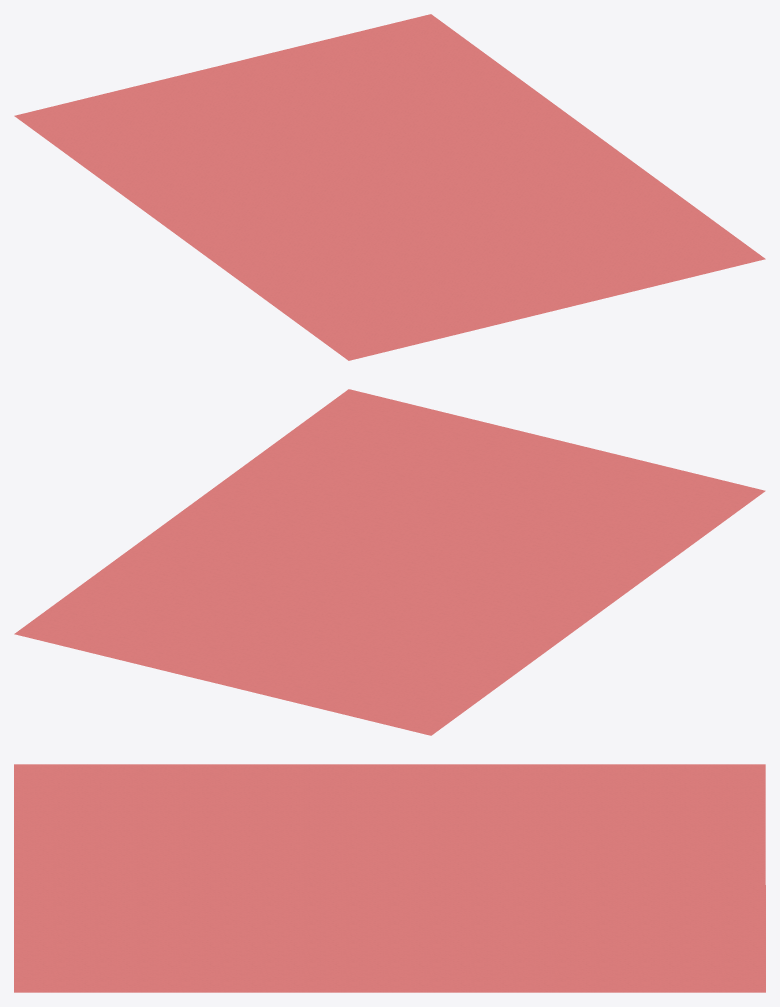
File: Floor.fbx
3 views of the same model, one above another, from view 1: azimuth 30°, elevation 25°; view 2: azimuth 150°, elevation 25°; view 3: azimuth 270°, elevation 25° (orthographic). The views are drawn at different scales.
Parts seen in each view (by area): view 1: Floor_Mesh; view 2: Floor_Mesh; view 3: Floor_Mesh.
Part boxes in pixels (x1,y1,x2,y2): Floor_Mesh: [14, 14, 765, 360]; Floor_Mesh: [14, 389, 765, 735]; Floor_Mesh: [14, 764, 765, 992].
Size of the model in its own units: 97.51 by 1.49e-07 by 136.
